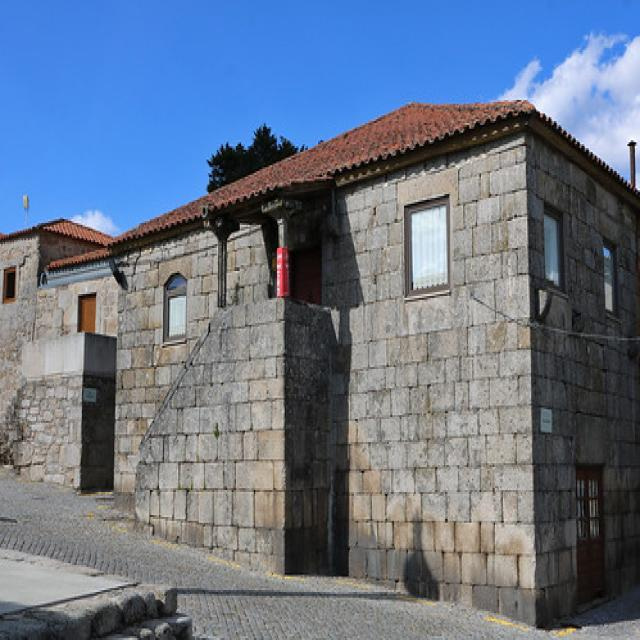building: (105, 96, 640, 629)
